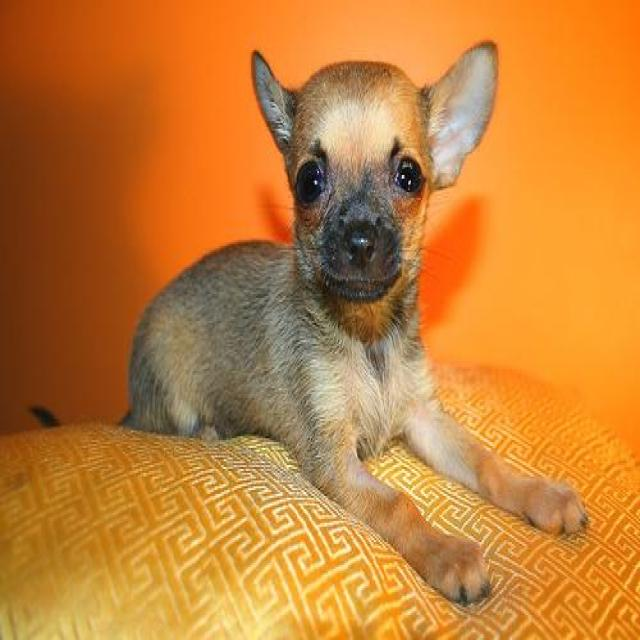sad: (108, 1, 640, 627)
